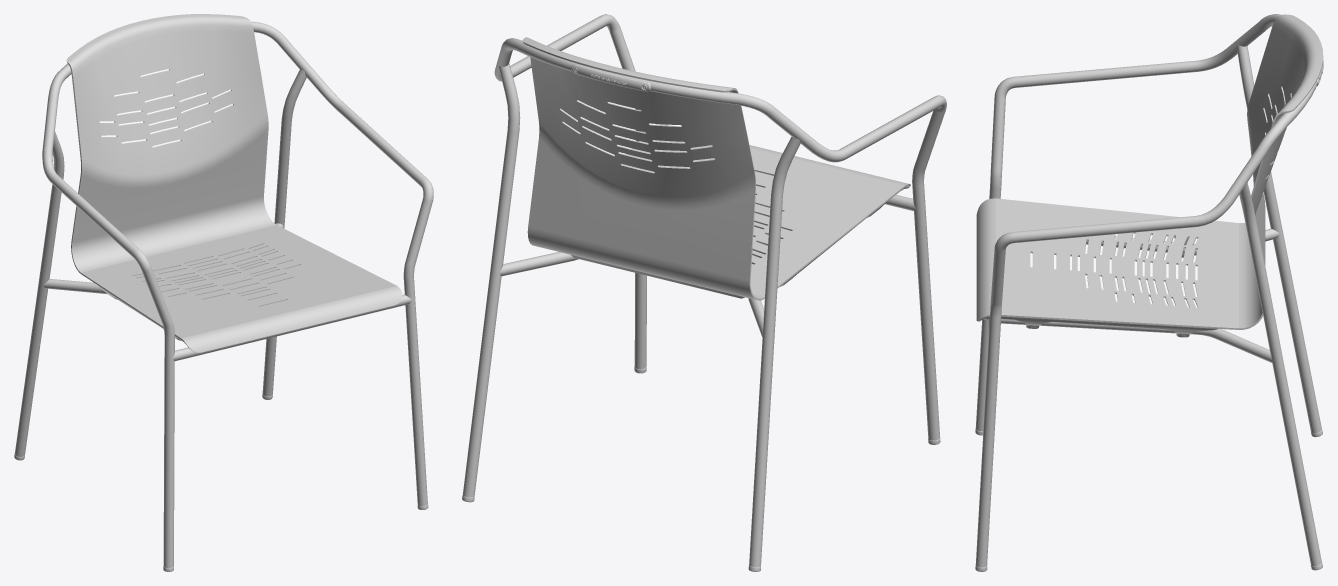
Rendered from Factor_Chair_Armed_Perforated.glb.
3 views of the same model, side by side, from view 1: azimuth 30°, elevation 25°; view 2: azimuth 150°, elevation 25°; view 3: azimuth 270°, elevation 25° (orthographic). The views are drawn at different scales.
Visible parts, largest first — view 1: Factor_Chair_Armed_Perforated; view 2: Factor_Chair_Armed_Perforated; view 3: Factor_Chair_Armed_Perforated.
Part boxes in pixels (left/top/right/bottom): Factor_Chair_Armed_Perforated: left=14, top=14, right=433, bottom=571; Factor_Chair_Armed_Perforated: left=462, top=14, right=946, bottom=571; Factor_Chair_Armed_Perforated: left=975, top=14, right=1323, bottom=571.
Bounding box in the file's own units: 0.6411 × 0.8365 × 0.5903.
1 material, 1 textured.
